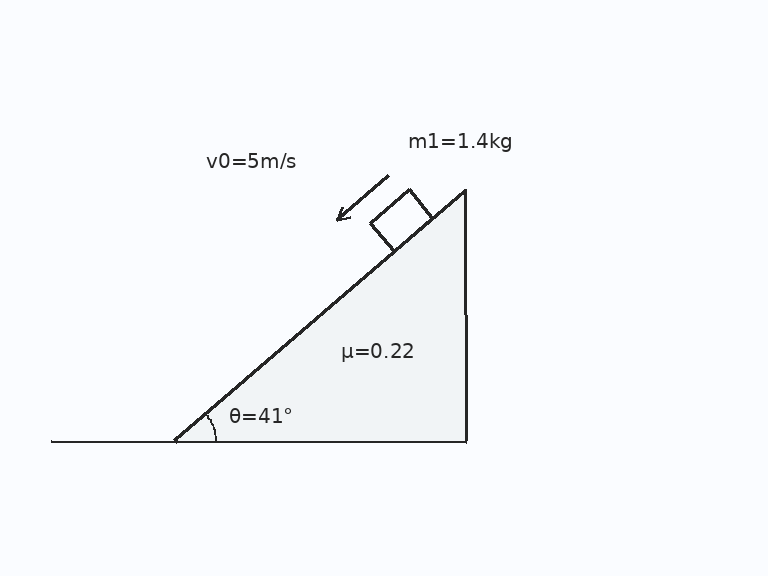block: (368, 188, 435, 253)
ramp: (174, 188, 467, 443)
